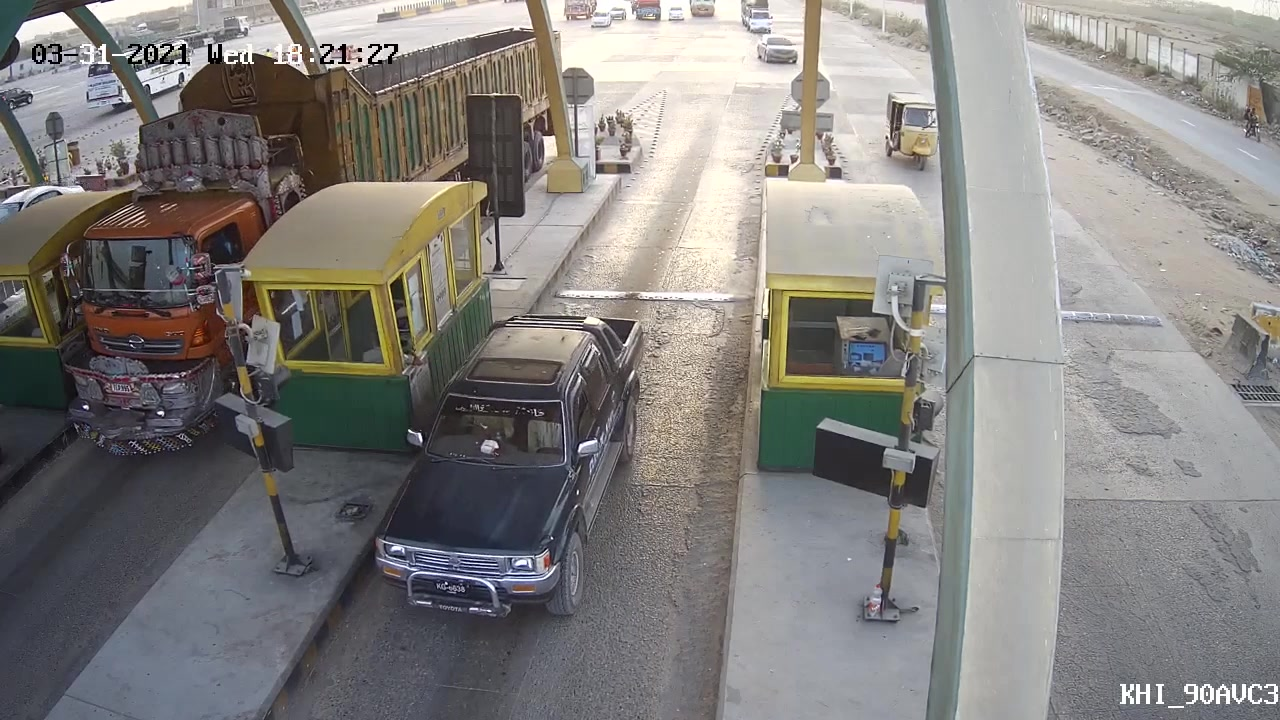F1: (357, 306, 649, 621)
